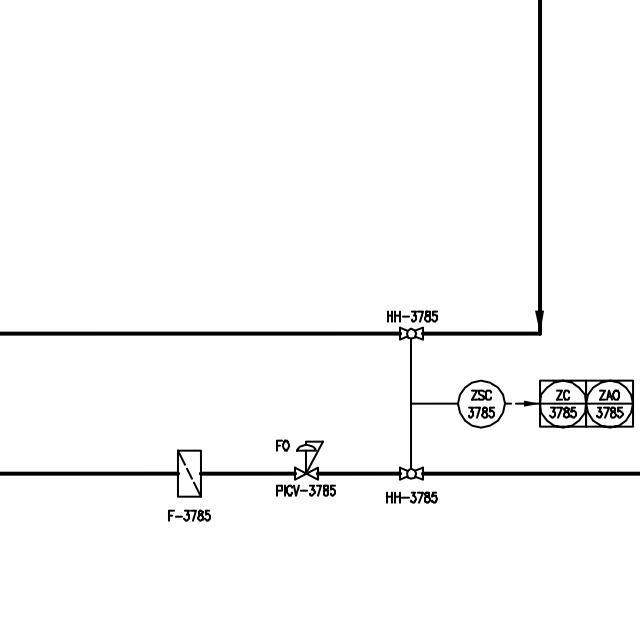BV2: (395, 325, 427, 343), (395, 464, 427, 482)
F2: (173, 447, 207, 500)
PCV: (291, 438, 324, 481)
